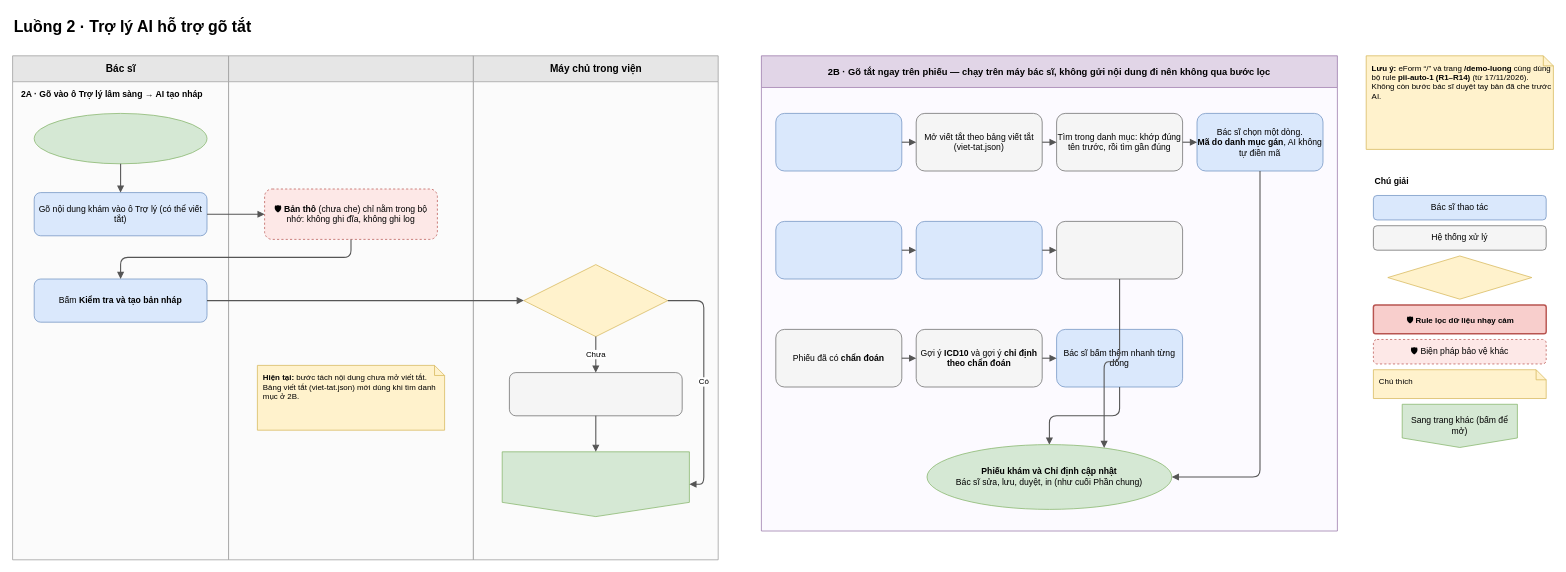
Some shapes in this 1566 by 572 pixel diagram are drawn without their labels. The box of each missing label's shape, as (x1, y1, x2, y2) in pixels:
Bắt đầu Bác sĩ mở lượt khám đang khám: (33, 113, 207, 164)
Chèn câu hoàn chỉnh vào ô Khám chuyên khoa: (1056, 221, 1183, 279)
Chọn mẫu câu khám gợi ý theo lý do khám: (775, 221, 902, 279)
Chọn từng lựa chọn trong mẫu câu: (915, 221, 1042, 279)
Gõ tắt vào ô ICD / dịch vụ / thuốc: (775, 113, 902, 171)
Lượt khám đã có phiên ghi?: (523, 264, 668, 337)
Sang Phần chung : lọc dữ liệu nhạy cảm (R1–R14): (501, 451, 689, 517)
Trình duyệt (máy bác sĩ): (228, 55, 473, 560)
Tạo phiên “nhập tay” cho lượt khám: (509, 372, 682, 416)
Điều kiện rẽ nhánh: (1387, 255, 1532, 299)
